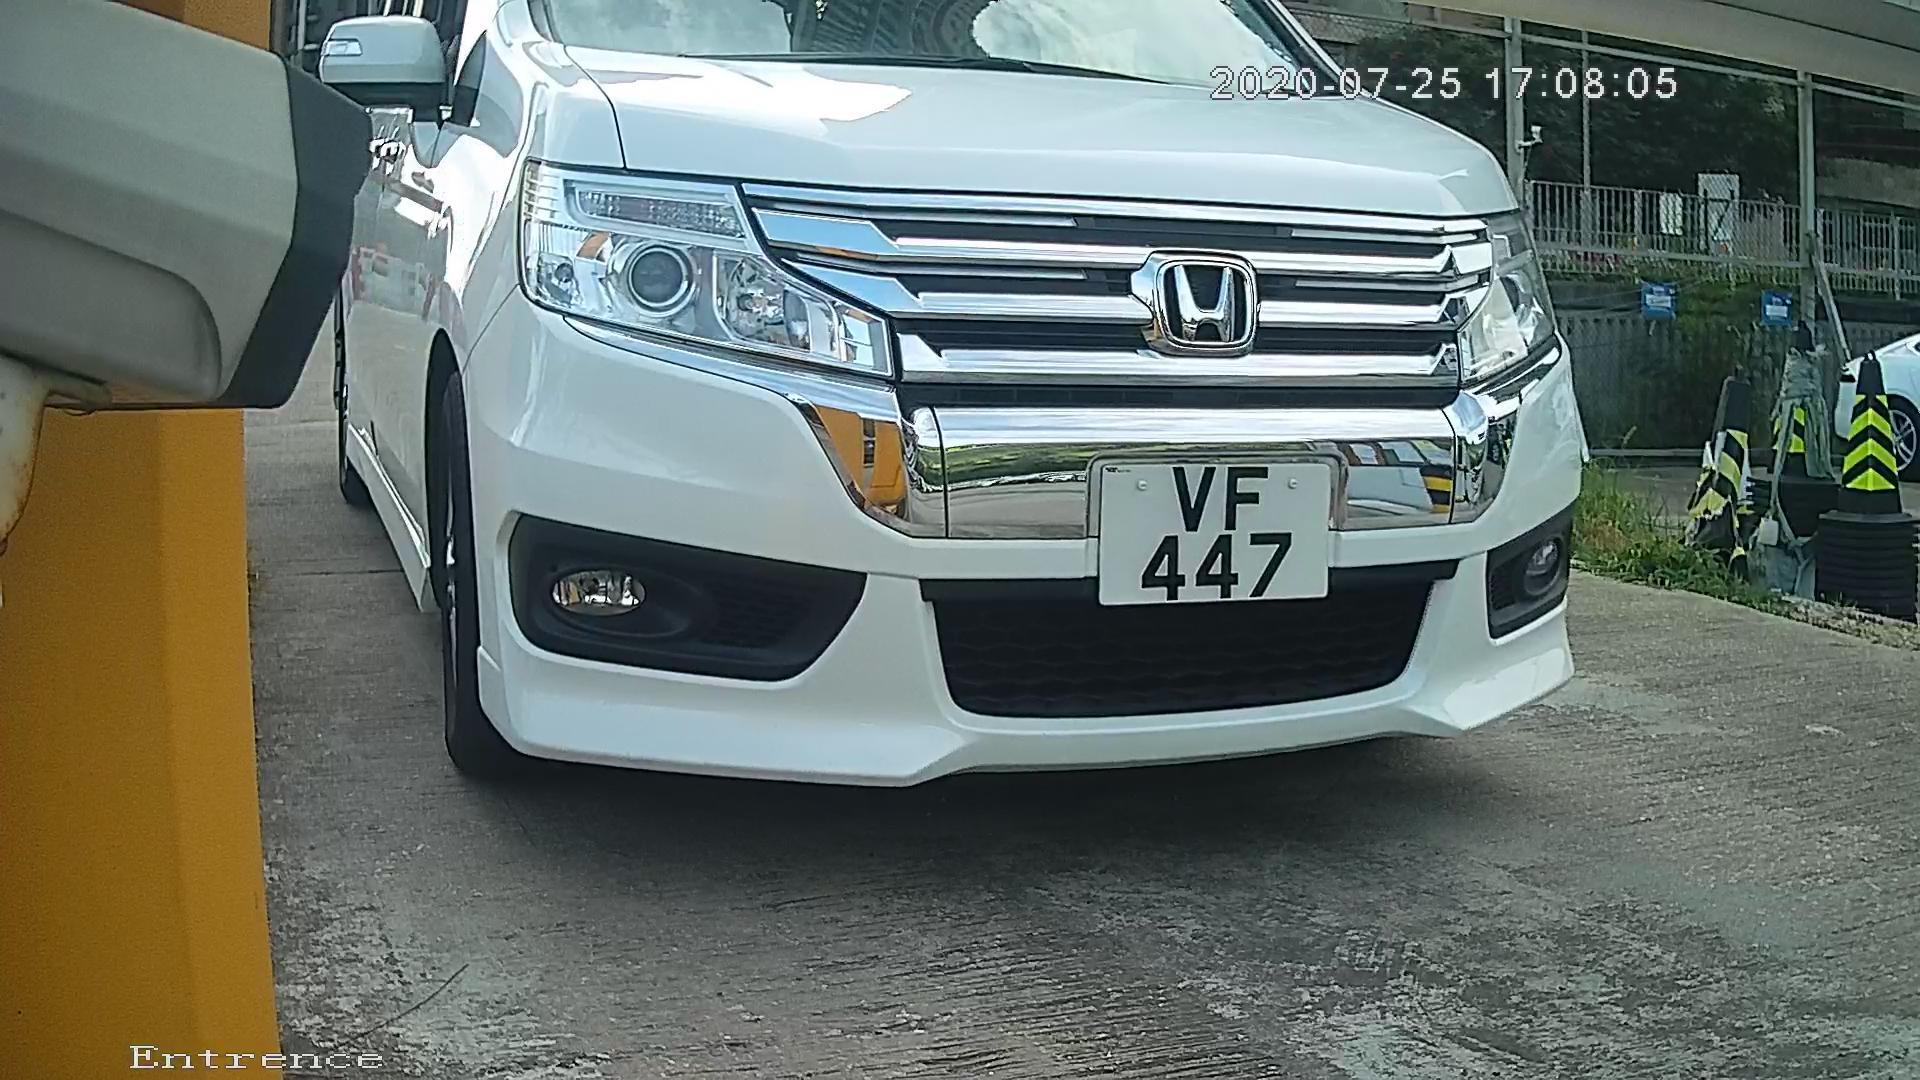privatecar: (249, 1, 1741, 849)
